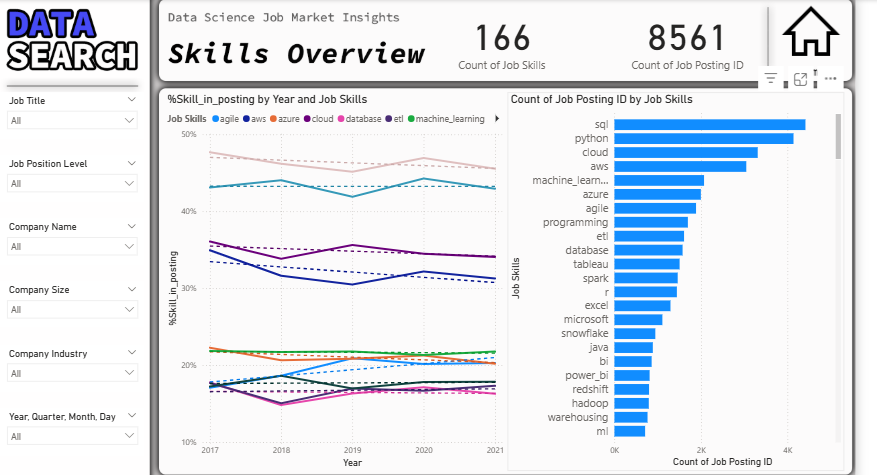

The page's visual inventory and layout, read from the dashboard file:
{"tool":"powerbi","page":{"name":"Skills","canvas":[1280,720],"ordinal":2},"visuals":[{"type":"slicer","fields":{"Values":["job_postings.Job Title"]},"box":[4.5,138.7,215,70],"z":0},{"type":"slicer","fields":{"Values":["job_postings.Company Name"]},"box":[4.5,327.4,215,70],"z":1000},{"type":"slicer","fields":{"Values":["job_postings.Job Position Level"]},"box":[4.5,233,215,70],"z":2000},{"type":"slicer","fields":{"Values":["job_postings.Company Size"]},"box":[4.8,421.8,215.3,68.6],"z":3000},{"type":"slicer","fields":{"Values":["job_postings.Company Industry"]},"box":[4.8,514.7,215.3,70.2],"z":4000},{"type":"slicer","fields":{"Values":["job_postings.Job Posting Date.Variation.Date Hierarchy.Year","job_postings.Job Posting Date.Variation.Date Hierarchy.Quarter","job_postings.Job Posting Date.Variation.Date Hierarchy.Month","job_postings.Job Posting Date.Variation.Date Hierarchy.Day"]},"box":[4.8,609.3,215.3,71.8],"z":5000},{"type":"lineChart","fields":{"Y":["_measure.%Skill_in_posting"],"Category":["job_postings.Job Posting Date.Variation.Date Hierarchy.Year","job_postings.Job Posting Date.Variation.Date Hierarchy.Quarter","job_postings.Job Posting Date.Variation.Date Hierarchy.Month","job_postings.Job Posting Date.Variation.Date Hierarchy.Day"],"Series":["job_skills.Job Skills"]},"box":[248.8,138.8,512,564.6],"z":6000},{"type":"barChart","fields":{"Category":["job_skills.Job Skills"],"Y":["CountNonNull(job_skills.Job Posting ID)"]},"box":[760.8,138.8,502.4,564.6],"z":7000},{"type":"card","fields":{"Values":["Count(job_skills.Job Skills)"]},"box":[650.8,0,204.2,121.2],"z":8000},{"type":"card","fields":{"Values":["Count(job_skills.Job Posting ID)"]},"box":[925.1,0,208.9,121.2],"z":9000},{"type":"image","box":[1165.1,0,98.6,97],"z":10000}]}

Visuals, with their boxes on the page's 1280x720 design canvas (x1, y1, x2, y2). These are canvas units, not pixel positions in the 877x475 screenshot, which may show the page scaled, cropped or inside an application window:
slicer - job_postings.Job Title: [left=4, top=139, right=220, bottom=209]
slicer - job_postings.Company Name: [left=4, top=327, right=220, bottom=397]
slicer - job_postings.Job Position Level: [left=4, top=233, right=220, bottom=303]
slicer - job_postings.Company Size: [left=5, top=422, right=220, bottom=490]
slicer - job_postings.Company Industry: [left=5, top=515, right=220, bottom=585]
slicer - job_postings.Job Posting Date.Variation.Date Hierarchy.Year x job_postings.Job Posting Date.Variation.Date Hierarchy.Quarter: [left=5, top=609, right=220, bottom=681]
lineChart - _measure.%Skill_in_posting x job_postings.Job Posting Date.Variation.Date Hierarchy.Year: [left=249, top=139, right=761, bottom=703]
barChart - job_skills.Job Skills x CountNonNull(job_skills.Job Posting ID): [left=761, top=139, right=1263, bottom=703]
card - Count(job_skills.Job Skills): [left=651, top=0, right=855, bottom=121]
card - Count(job_skills.Job Posting ID): [left=925, top=0, right=1134, bottom=121]
image: [left=1165, top=0, right=1264, bottom=97]
